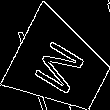M_SE: (29, 33, 91, 98)
